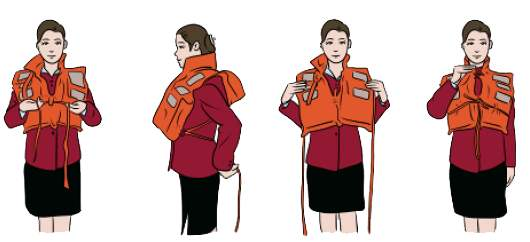reflective_clothes: (294, 47, 383, 152), (152, 53, 241, 149), (13, 55, 89, 150), (442, 56, 517, 147)
